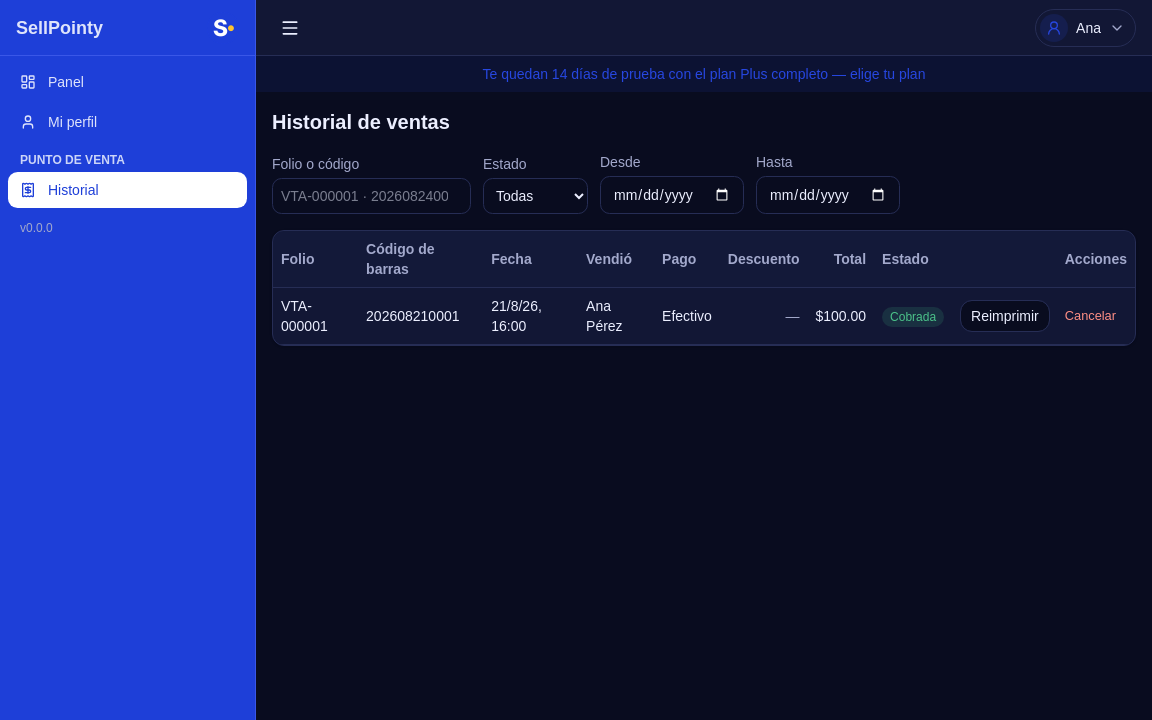
Test: Historial de ventas (F4-UI-03) › anular › un rechazo del servidor se pinta DENTRO del diálogo
This screenshot has width=1152, height=720.
Check: the text "VTA-000001" is shown, box x1=273 y1=288 x2=358 y2=344
Click the button "Cancelar" at (1090, 316), box x1=1054 y1=302 x2=1127 y2=330
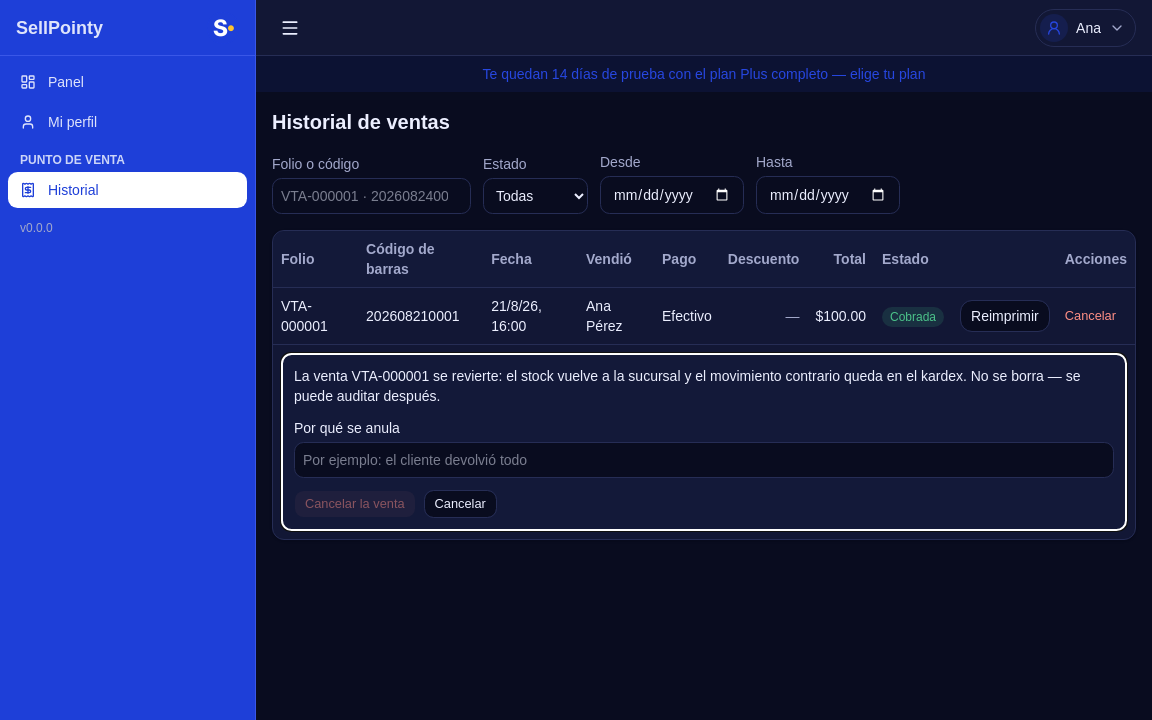
Type "me equivoqué" into the field labelled "Por qué se anula" at (704, 460), box x1=294 y1=442 x2=1114 y2=478
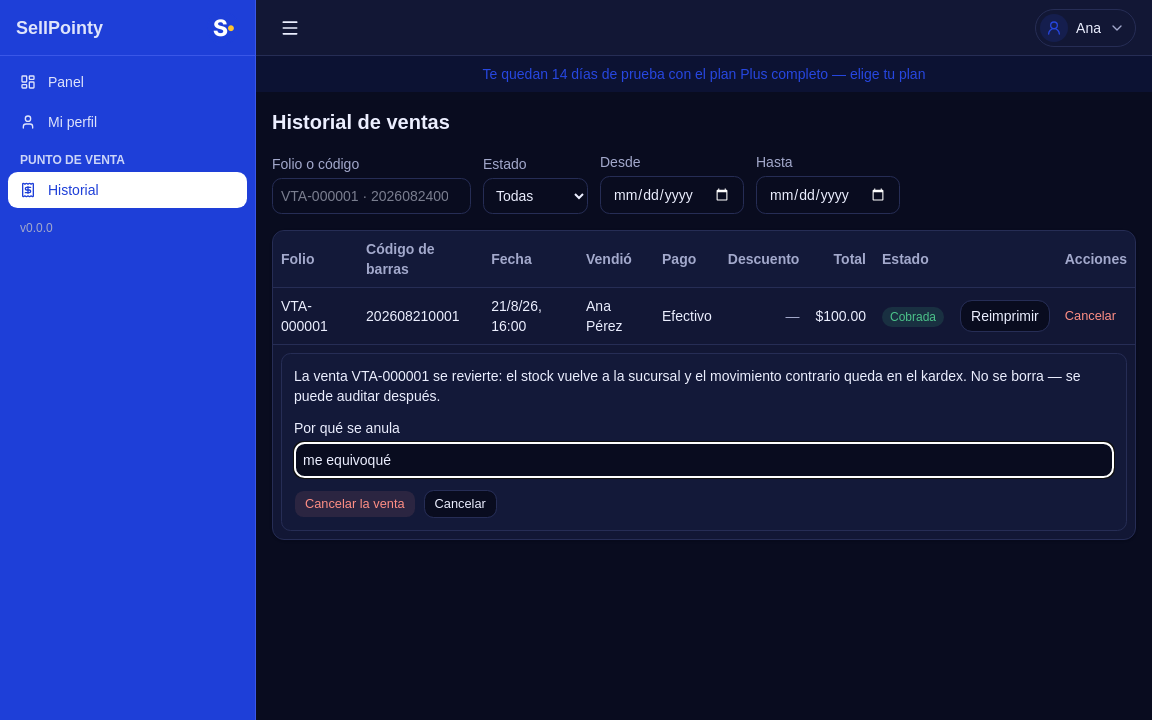
Click the button "Cancelar la venta" at (355, 504), box x1=294 y1=490 x2=416 y2=518
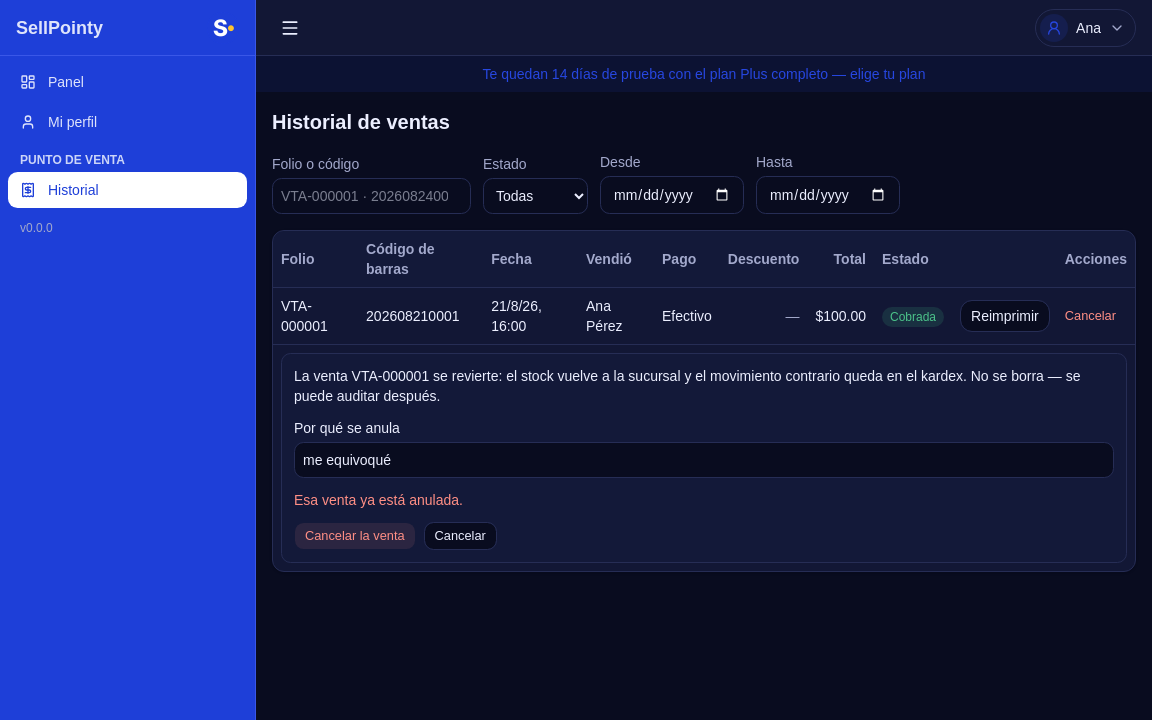
Check: the text "Esa venta ya está anulada." is shown, box x1=294 y1=492 x2=463 y2=508
